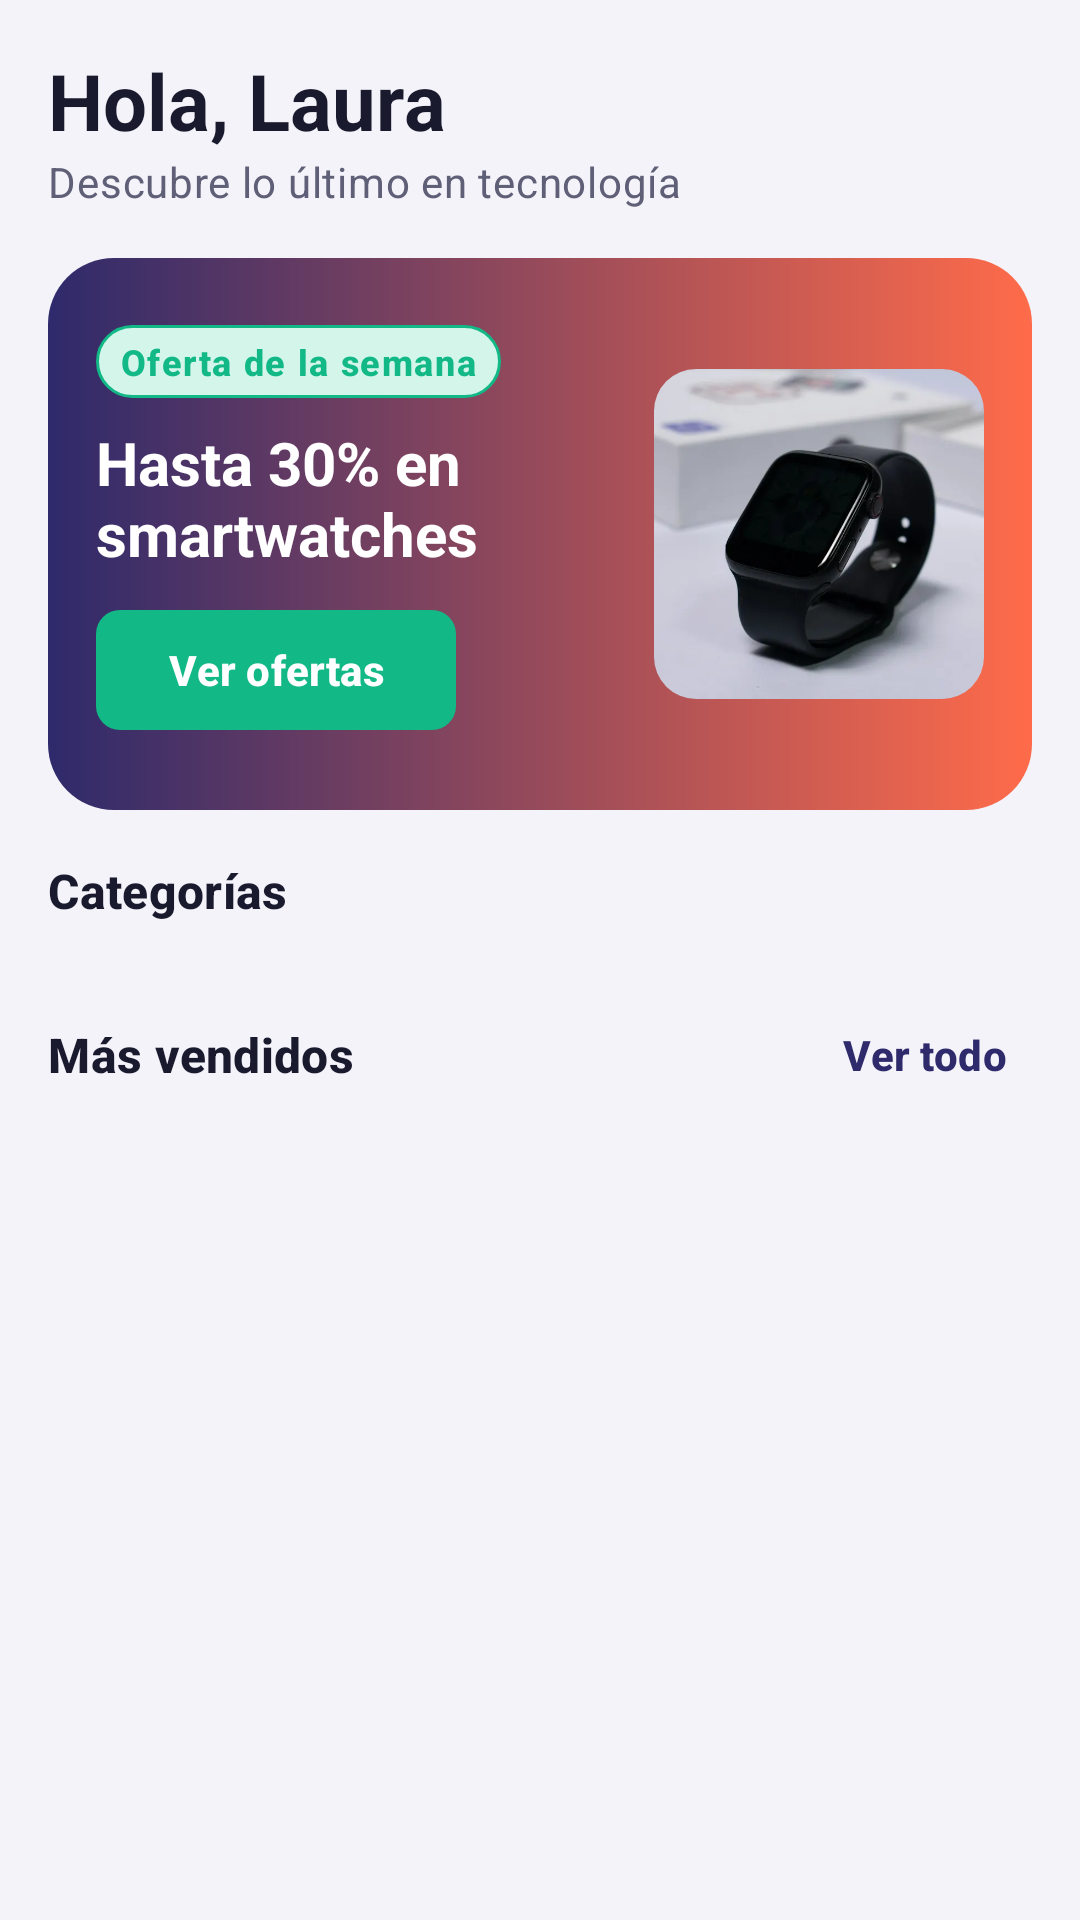

Point at icon controls on the screen. Image size 1080 × 1920, points as (x,y).
promo watch: (819,534)
